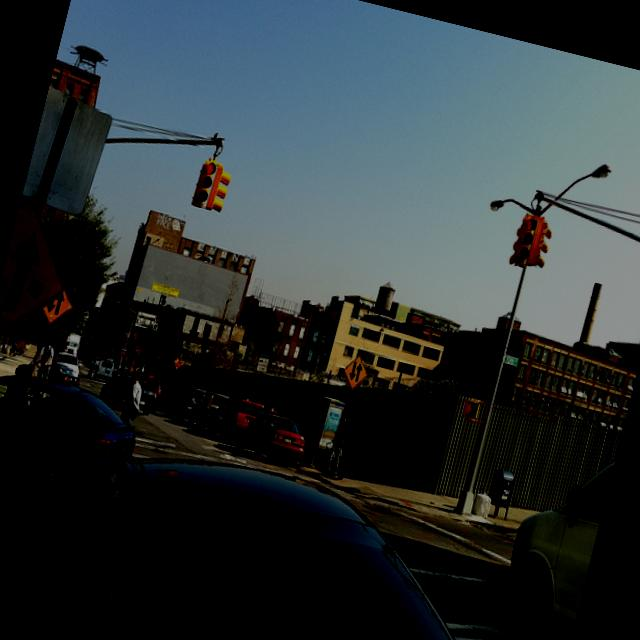Vehicle: (0, 411, 555, 640), (485, 429, 617, 640), (0, 365, 146, 516), (232, 406, 310, 469), (204, 392, 264, 449), (96, 368, 160, 418), (186, 388, 231, 434), (166, 383, 206, 423), (132, 372, 164, 413), (50, 349, 84, 378), (157, 386, 182, 414), (92, 358, 116, 383), (159, 378, 179, 392)
